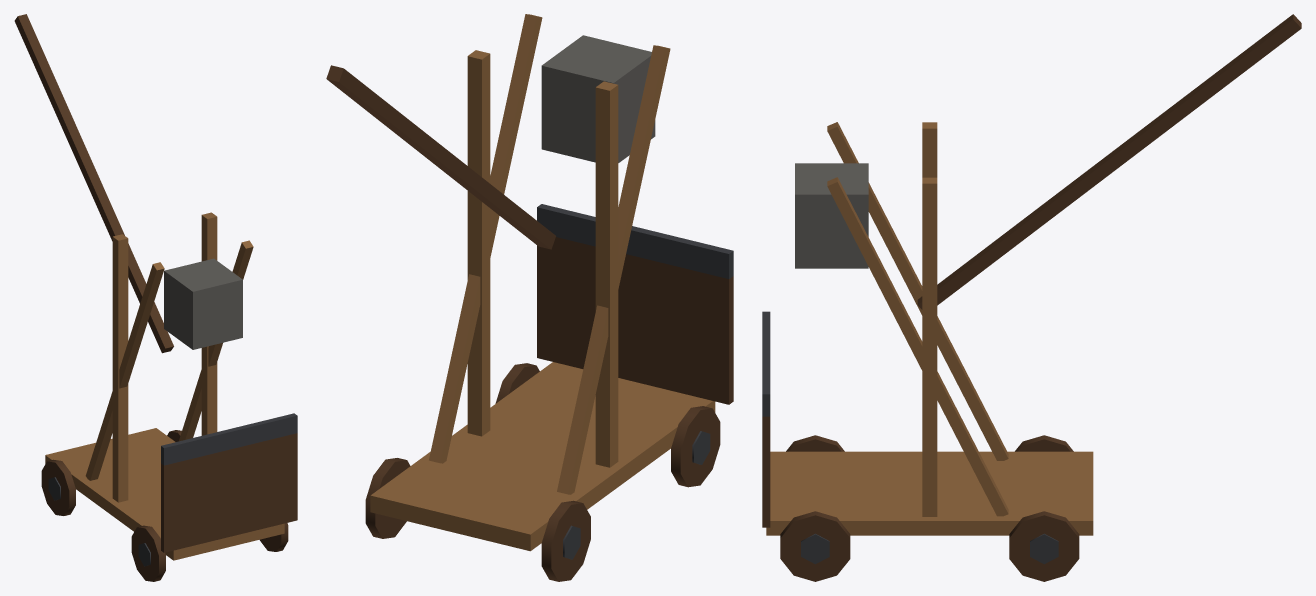
The model's file is unit_mil_trebuchet_a03.glb.
3 renders of one model, left to right at view 1: azimuth 30°, elevation 25°; view 2: azimuth 150°, elevation 25°; view 3: azimuth 270°, elevation 25°, orthographic. The views are drawn at different scales.
Parts seen in each view (by area): view 1: body, arm, wheel_0, wheel_2, wheel_3; view 2: body, arm, wheel_0, wheel_2, wheel_1, wheel_3; view 3: body, arm, wheel_1, wheel_3, wheel_2, wheel_0.
Part boxes in pixels (<box>): body: <box>45,212,297,560</box>; arm: <box>14,14,242,353</box>; wheel_0: <box>41,459,75,515</box>; wheel_2: <box>131,525,165,581</box>; wheel_3: <box>259,523,288,551</box>; body: <box>370,14,733,551</box>; arm: <box>326,35,655,249</box>; wheel_0: <box>541,500,590,581</box>; wheel_2: <box>671,406,720,487</box>; wheel_1: <box>365,458,410,538</box>; wheel_3: <box>495,363,539,403</box>; body: <box>762,122,1093,535</box>; arm: <box>795,14,1301,309</box>; wheel_1: <box>1009,511,1079,581</box>; wheel_3: <box>780,511,850,581</box>; wheel_2: <box>786,435,844,451</box>; wheel_0: <box>1015,435,1073,451</box>.
Size of what is drawn, in the model's own units: 2.4 by 7.09 by 6.6.
